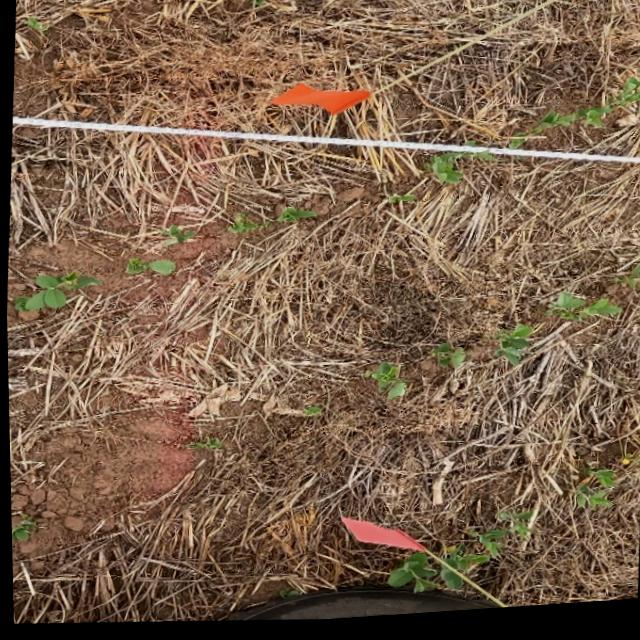soy_plant: (384, 516, 529, 597), (510, 85, 640, 153), (14, 272, 98, 311), (544, 299, 619, 328), (424, 158, 494, 189), (574, 476, 615, 517), (492, 331, 531, 371), (363, 367, 404, 403), (429, 348, 463, 373), (227, 217, 269, 236), (613, 271, 640, 297), (161, 226, 194, 247), (276, 209, 315, 226), (276, 209, 315, 226), (9, 514, 34, 540), (183, 440, 220, 452), (146, 261, 174, 276), (24, 17, 49, 33), (448, 352, 463, 375), (125, 259, 148, 274), (300, 408, 321, 420), (386, 199, 413, 208), (250, 0, 273, 9)
